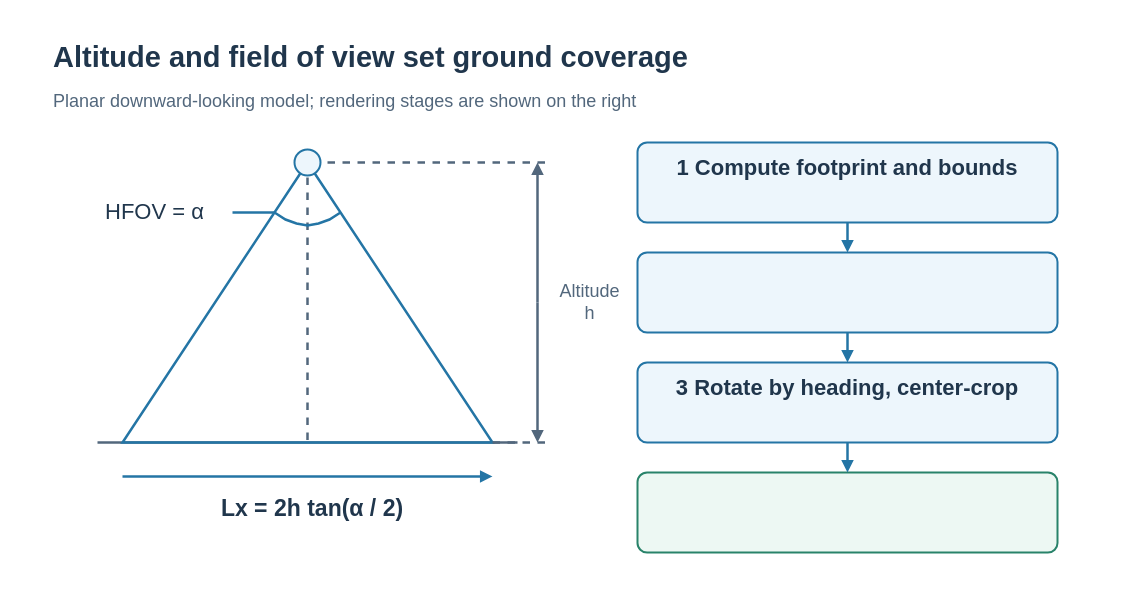
This 1134x614 diagram has some shape labels left out. Here are the shapes that lost their labels. From the top down, the centre of each, then its label:
[847,292]: 2 Read an expanded raster window
[847,512]: 4 Resize to W × H RGB
